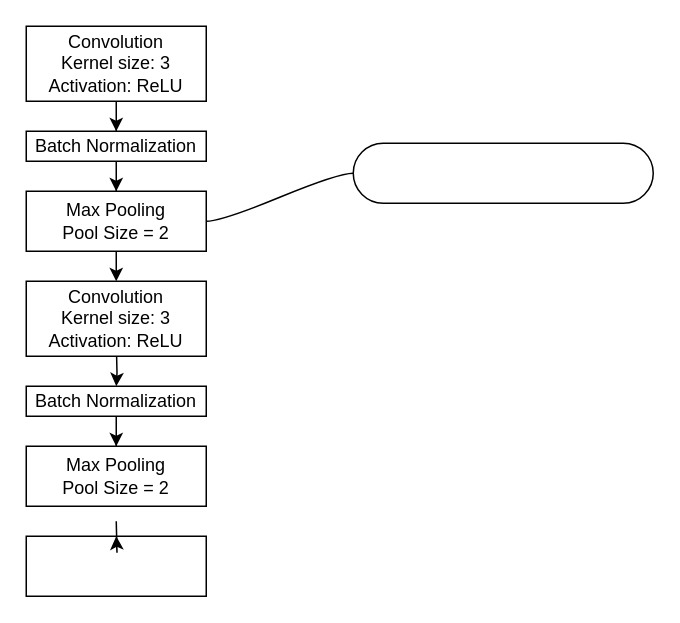
Image size: 680x623. Some labels were removed from this diagram. Each missing label, with the centre of its shape:
Dropout Rate: 0.25: the point at 115,565
The first convolution block does not have this layer: the point at 502,172
